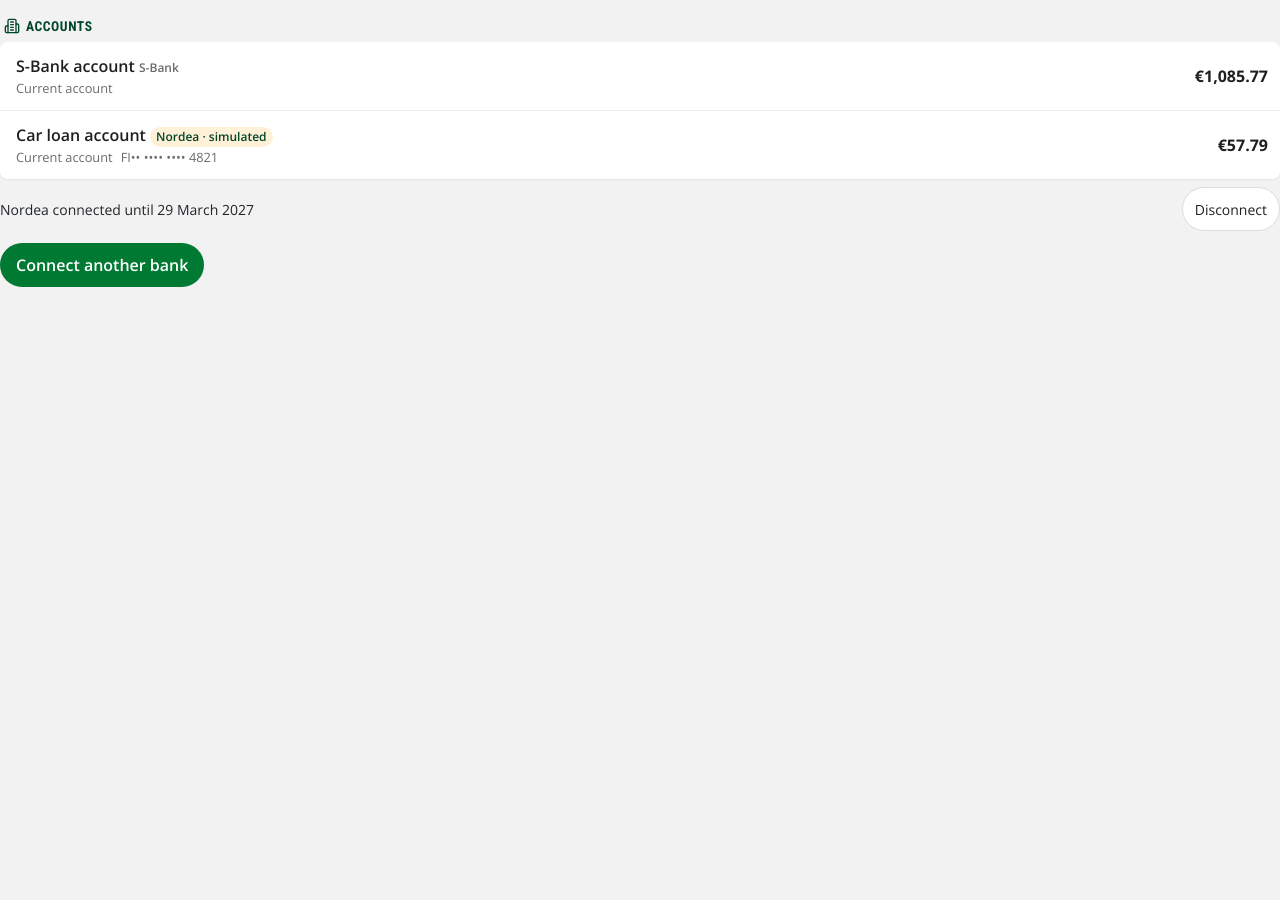
Test: accounts › disconnect asks for confirmation first
Later steps or results of the test are not shown.
Check: the text "FI•• •••• •••• 4821" is shown, box [121,148,218,166]
Check: the text "Nordea · simulated" is shown, box [150,127,273,147]
Click the button with aria-label "Disconnect Nordea" at (1231, 209), box [1182,187,1279,231]
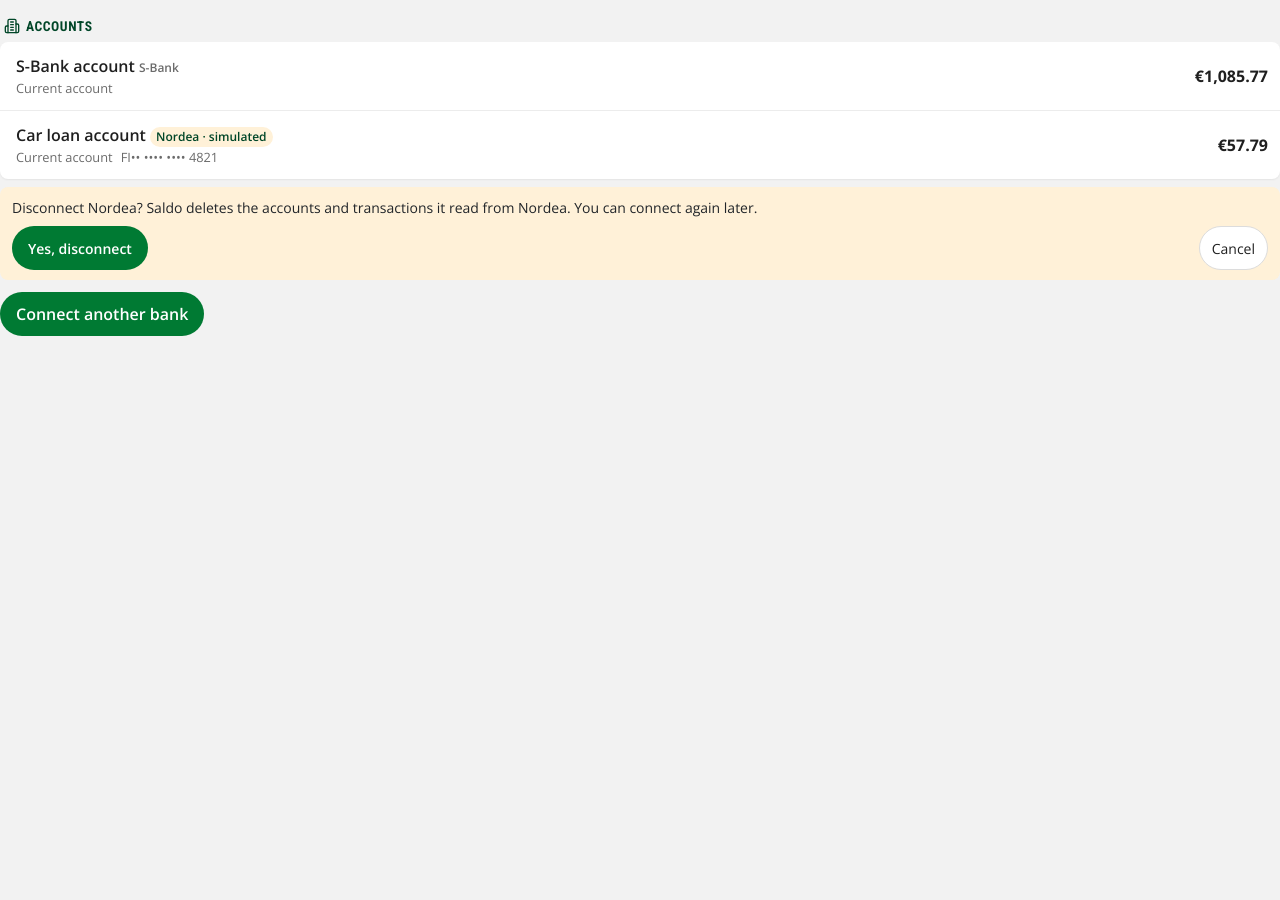
Check: the text "deletes the accounts and transactions" is shown, box [137,198,518,217]
